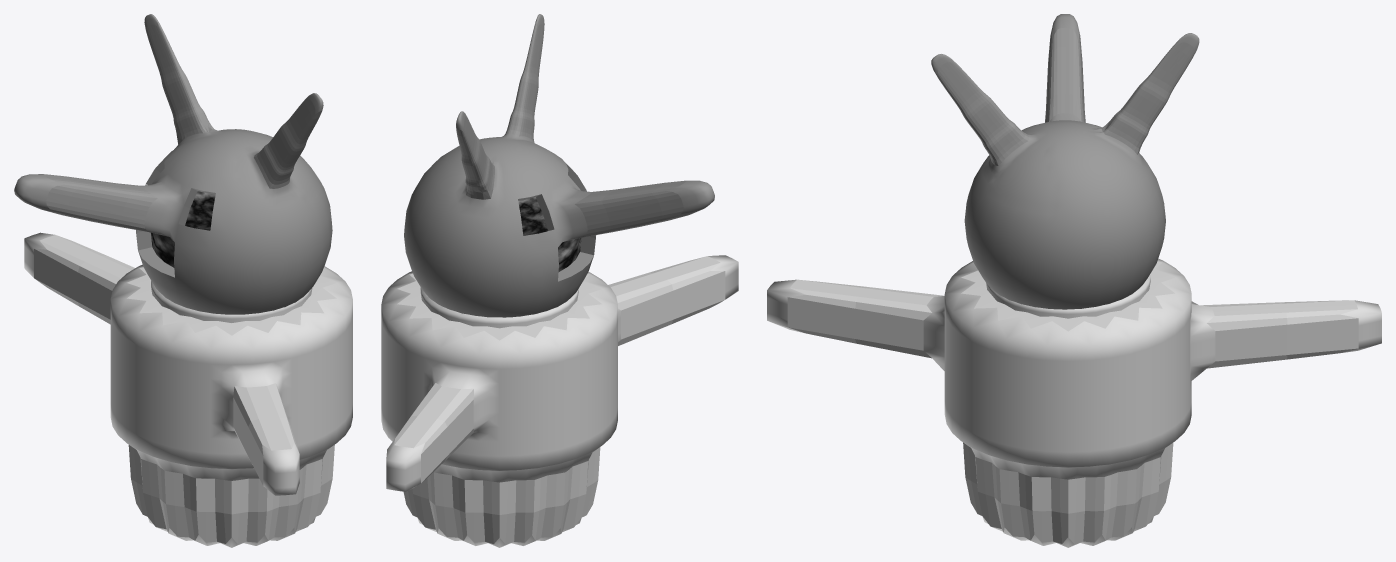
File: boss.FBX
3 renders of one model, left to right at view 1: azimuth 30°, elevation 25°; view 2: azimuth 150°, elevation 25°; view 3: azimuth 270°, elevation 25°, orthographic. The views are drawn at different scales.
Parts seen in each view (by area): view 1: Cylinder003, Sphere001, Cylinder002; view 2: Cylinder003, Sphere001, Cylinder002; view 3: Cylinder003, Sphere001, Cylinder002.
Boxes of the visible parts, bbox=[...] form: Cylinder003: bbox=[24, 232, 352, 547]; Sphere001: bbox=[14, 14, 332, 314]; Cylinder002: bbox=[151, 281, 312, 322]; Cylinder003: bbox=[381, 255, 738, 547]; Sphere001: bbox=[404, 14, 714, 317]; Cylinder002: bbox=[420, 287, 578, 328]; Cylinder003: bbox=[767, 258, 1381, 547]; Sphere001: bbox=[931, 14, 1199, 309]; Cylinder002: bbox=[986, 274, 1150, 318].
Size of the model in its own units: 90.68 by 126 by 147.
